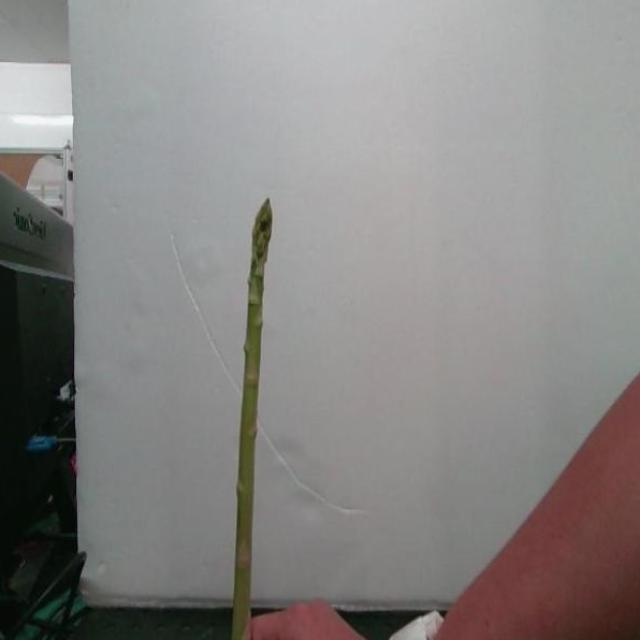aspargus: (232, 199, 274, 640)
